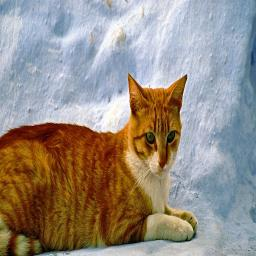catnose: (158, 159, 168, 169)
